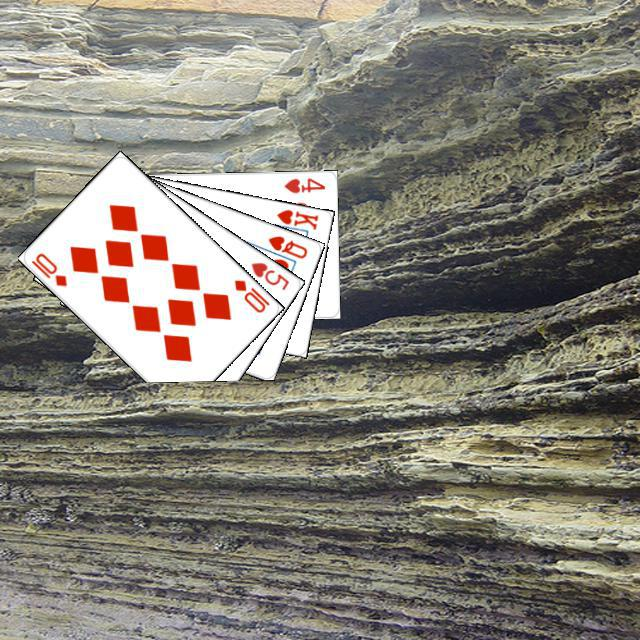10d: (229, 274, 272, 315), (26, 248, 69, 288)
4h: (279, 173, 327, 195)
5h: (246, 257, 291, 292)
Kh: (266, 204, 320, 236)
Qh: (263, 231, 309, 260)
